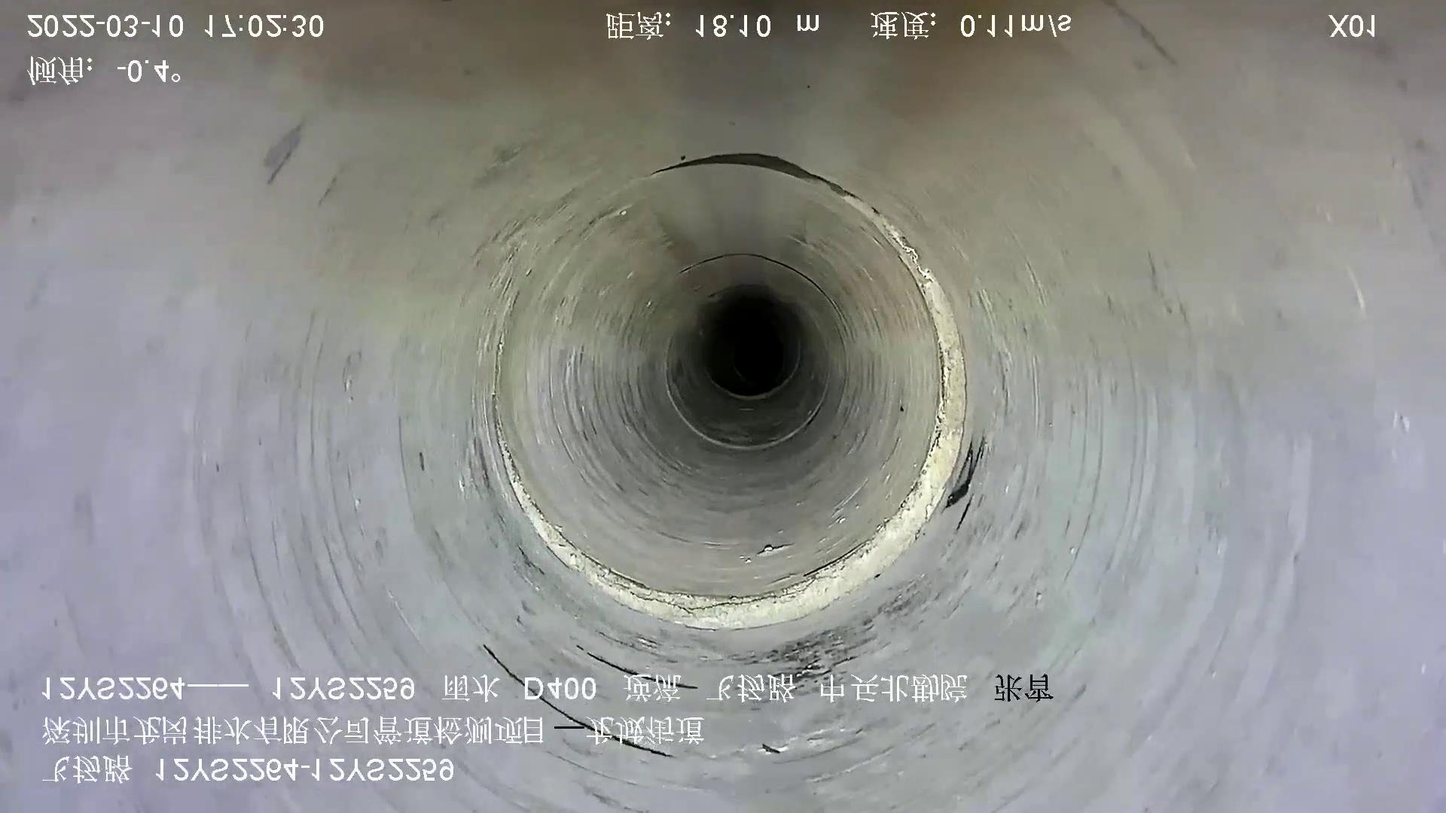CKTJ: (493, 178, 966, 630), (663, 331, 831, 452), (709, 332, 802, 402)
